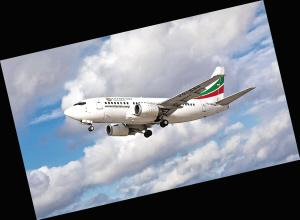airplane: (64, 65, 257, 138)
